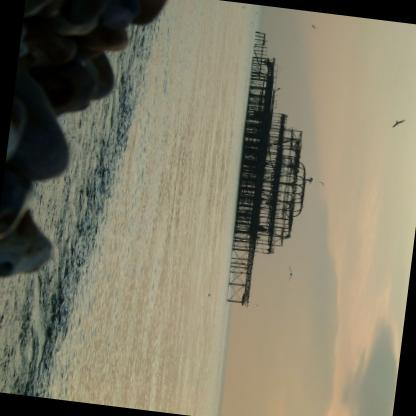Animal: (390, 117, 406, 128)
